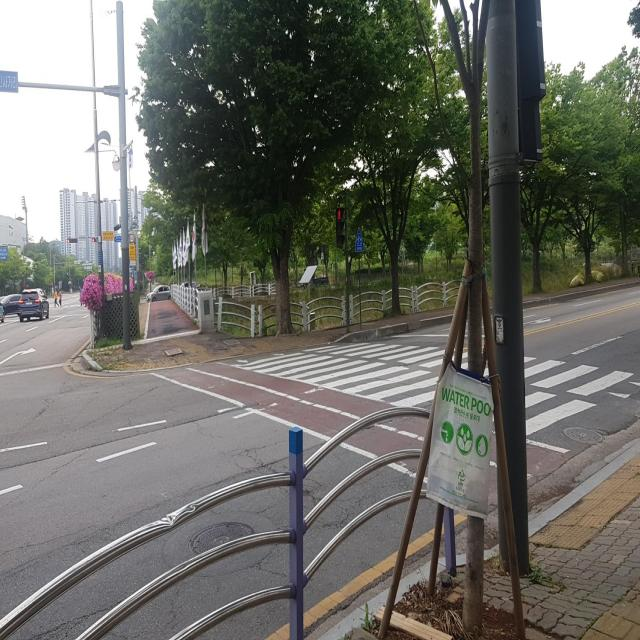빨간불: (335, 206, 345, 248)
횡단보도: (234, 329, 640, 440)
